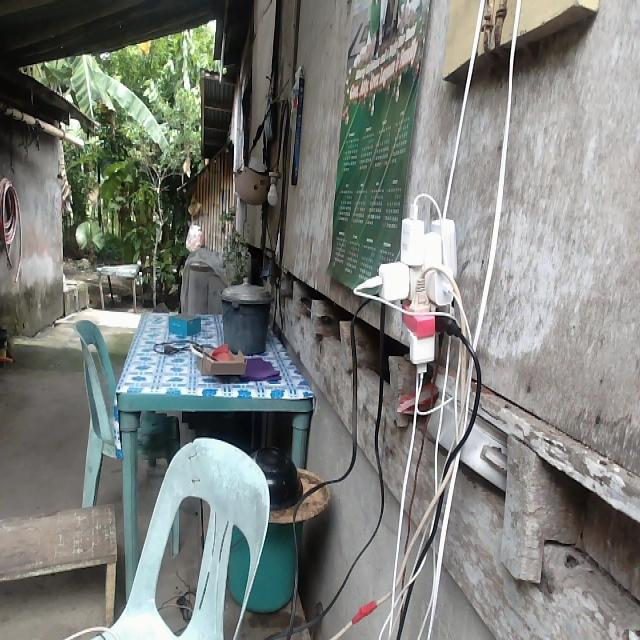-: (366, 194, 464, 374)
